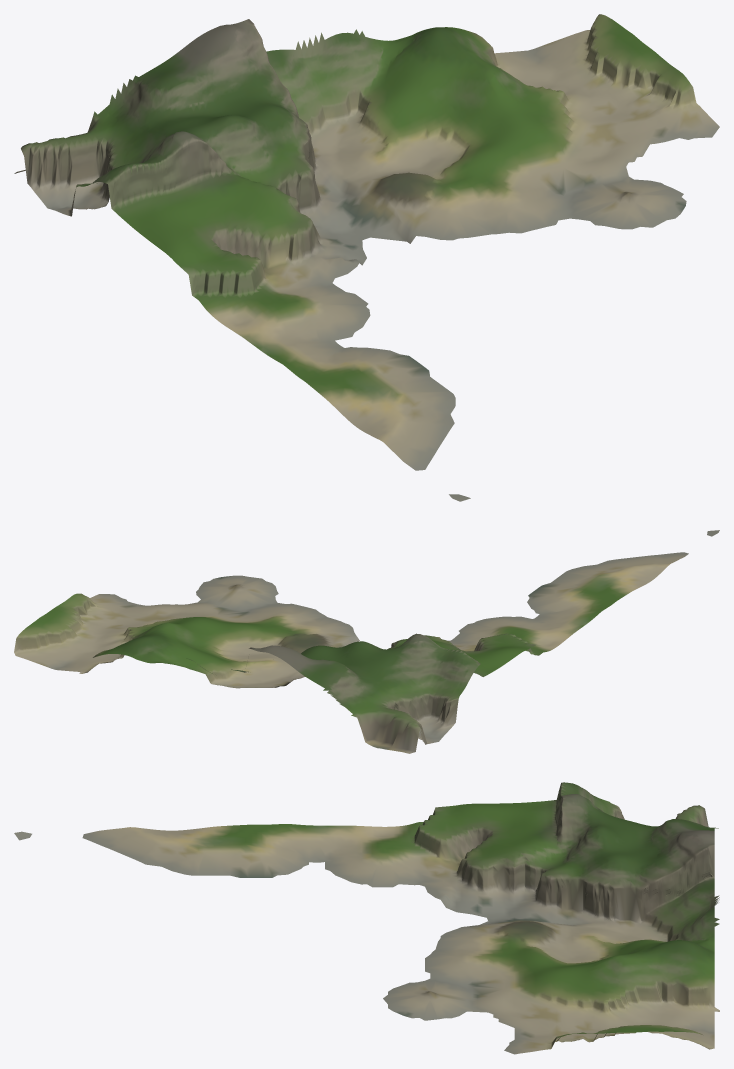
The model's file is coast_tile_x1z2_lod1.glb.
The picture shows the model from 3 angles, top to bottom: view 1: azimuth 30°, elevation 25°; view 2: azimuth 150°, elevation 25°; view 3: azimuth 270°, elevation 25°; orthographic projection. The views are drawn at different scales.
Parts seen in each view (by area): view 1: coast_tile_x1z2_lod1; view 2: coast_tile_x1z2_lod1; view 3: coast_tile_x1z2_lod1.
Part boxes in pixels (bbox=[...]): coast_tile_x1z2_lod1: bbox=[14, 14, 719, 501]; coast_tile_x1z2_lod1: bbox=[14, 530, 719, 753]; coast_tile_x1z2_lod1: bbox=[14, 782, 719, 1054].
Size of the model in its own units: 600 by 108 by 804.
